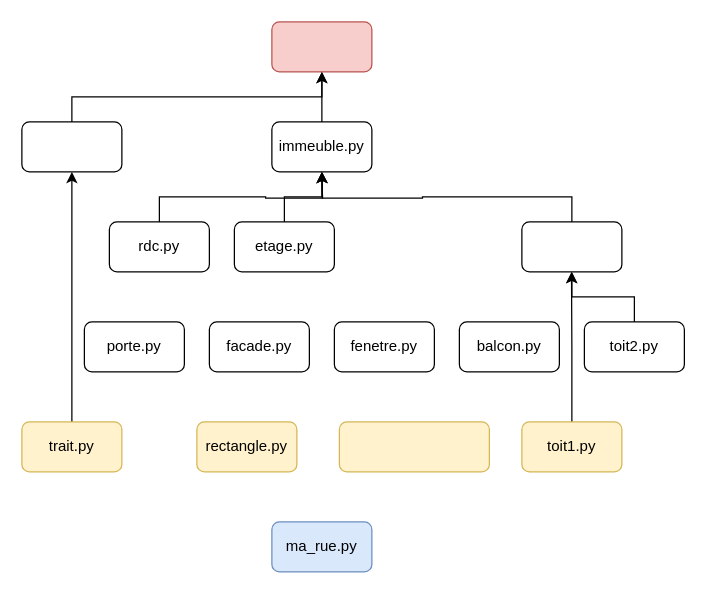
Image size: 706x594. Some labels were removed from this diagram. Here are the shapes that lost their labels. From the top down, the centre of each, then its label:
pixel 321 46: rue_finale.py
pixel 71 146: sol.py
pixel 571 246: toit.py
pixel 413 446: couleur_aleatoire.py
